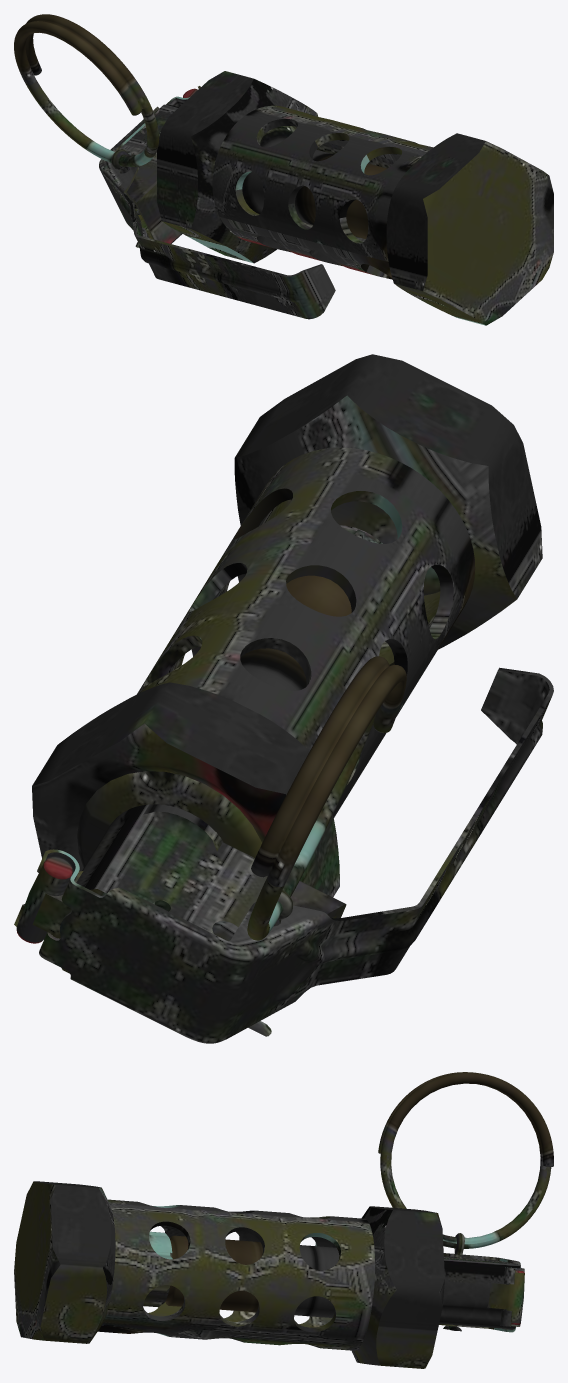
Rendered from w_flashbang.glb.
3 renders of one model, top to bottom at view 1: azimuth 30°, elevation 25°; view 2: azimuth 150°, elevation 25°; view 3: azimuth 270°, elevation 25°, orthographic. The views are drawn at different scales.
Visible parts, largest first — view 1: w_flashbang; view 2: w_flashbang; view 3: w_flashbang.
Boxes of the visible parts, x1,y1,x2,y2 form: w_flashbang: (14, 14, 553, 325); w_flashbang: (14, 354, 553, 1043); w_flashbang: (14, 1072, 553, 1368).
Bounding box in the file's own units: 0.1238 × 0.0993 × 0.2091.
Materials: 1 (1 with a texture image).
